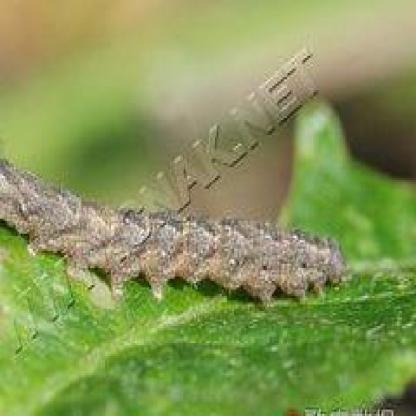armyworm: (1, 148, 351, 324)
